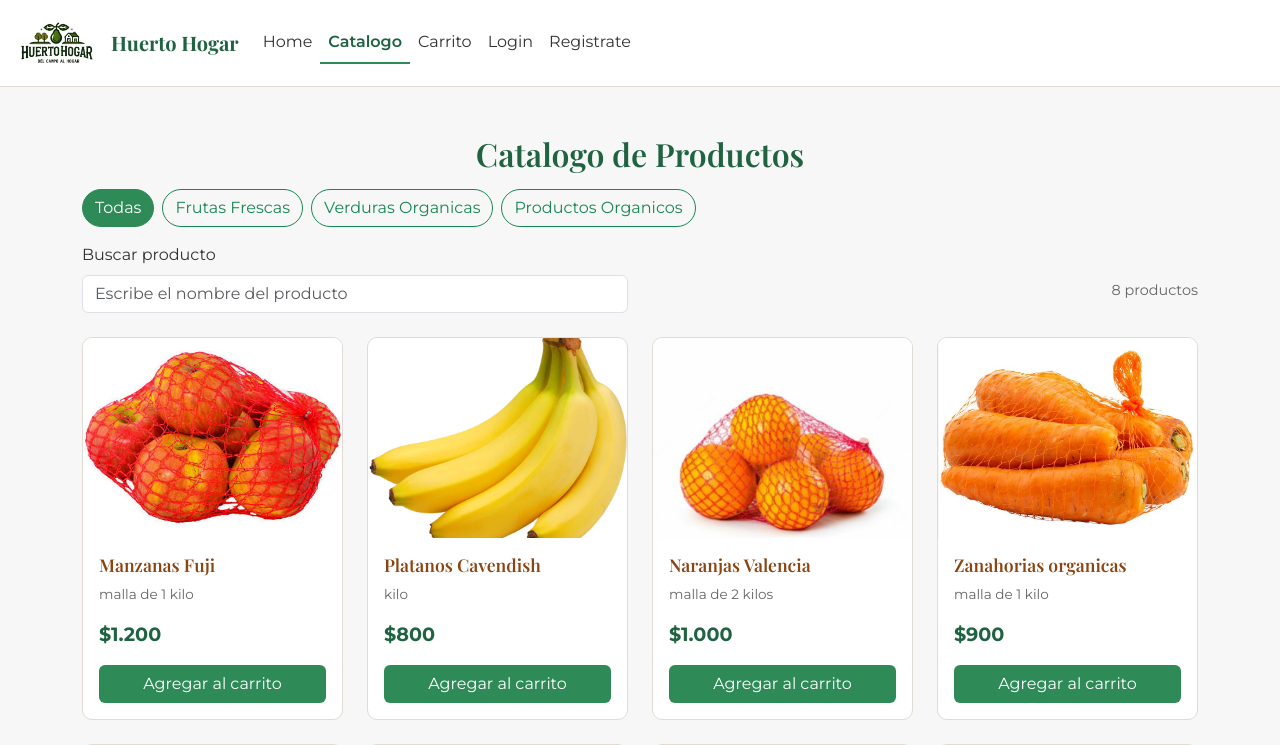
it: App › el contador del carrito en la barra sube al agregar un producto
The image size is (1280, 745).
Click the button "Agregar al carrito" below "$1.200" at (212, 684), box [99,665,326,703]
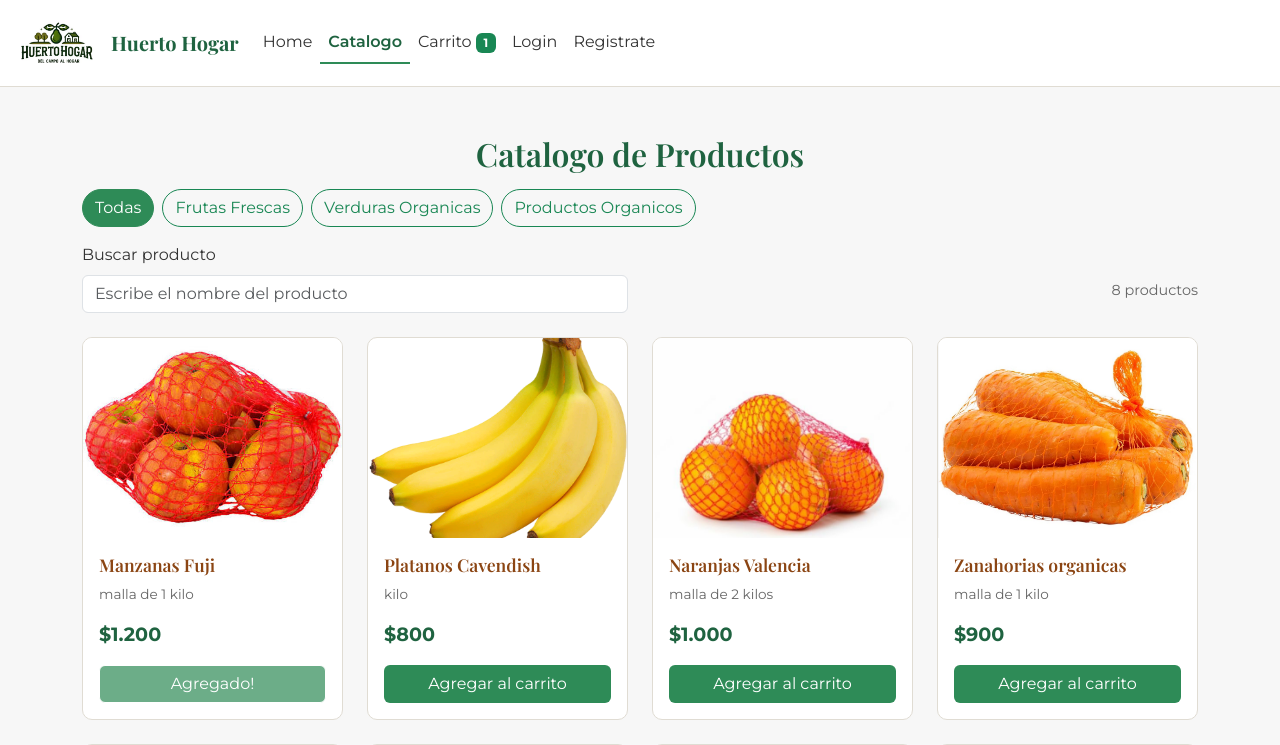
Result: the text with class "contadorCarrito" reads "1" at [483,35,488,50]
